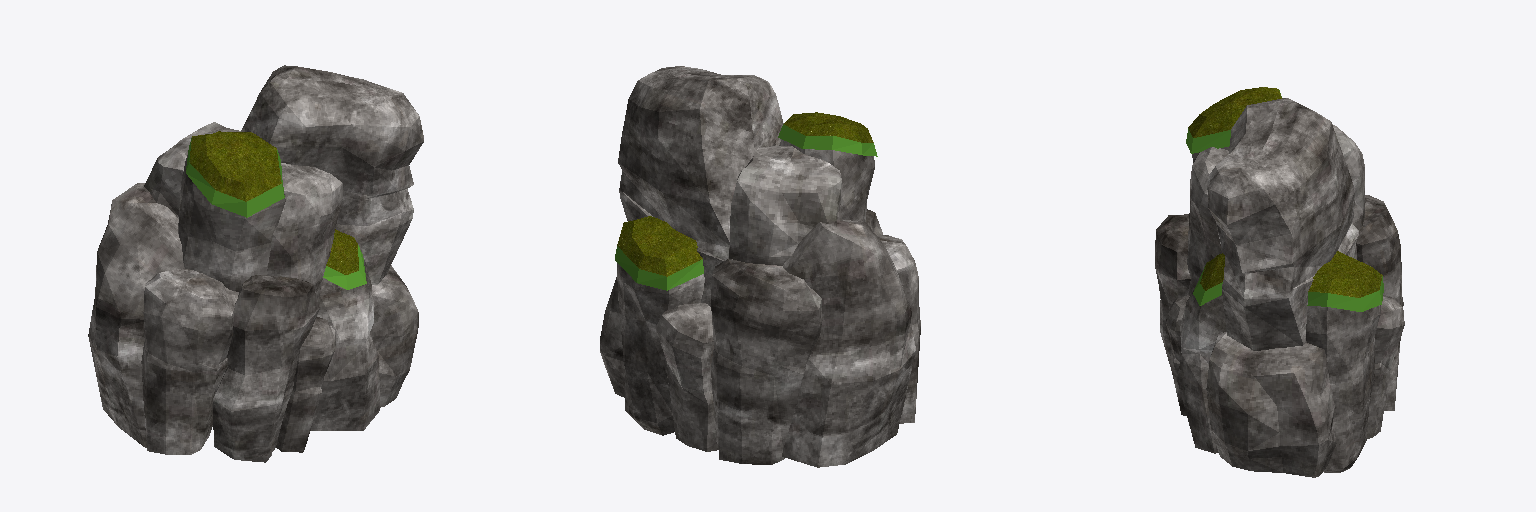
3 views of the same model, side by side, from view 1: azimuth 30°, elevation 25°; view 2: azimuth 150°, elevation 25°; view 3: azimuth 270°, elevation 25° (orthographic).
Parts seen in each view (by area): view 1: mountain2_Circle.001; view 2: mountain2_Circle.001; view 3: mountain2_Circle.001.
Part boxes in pixels (left/top/right/bottom): mountain2_Circle.001: left=88, top=65, right=423, bottom=462; mountain2_Circle.001: left=600, top=66, right=920, bottom=467; mountain2_Circle.001: left=1155, top=87, right=1404, bottom=477.
Size of the model in its own units: 2.02 by 2.22 by 1.47.
Materials: 3 (2 with a texture image).